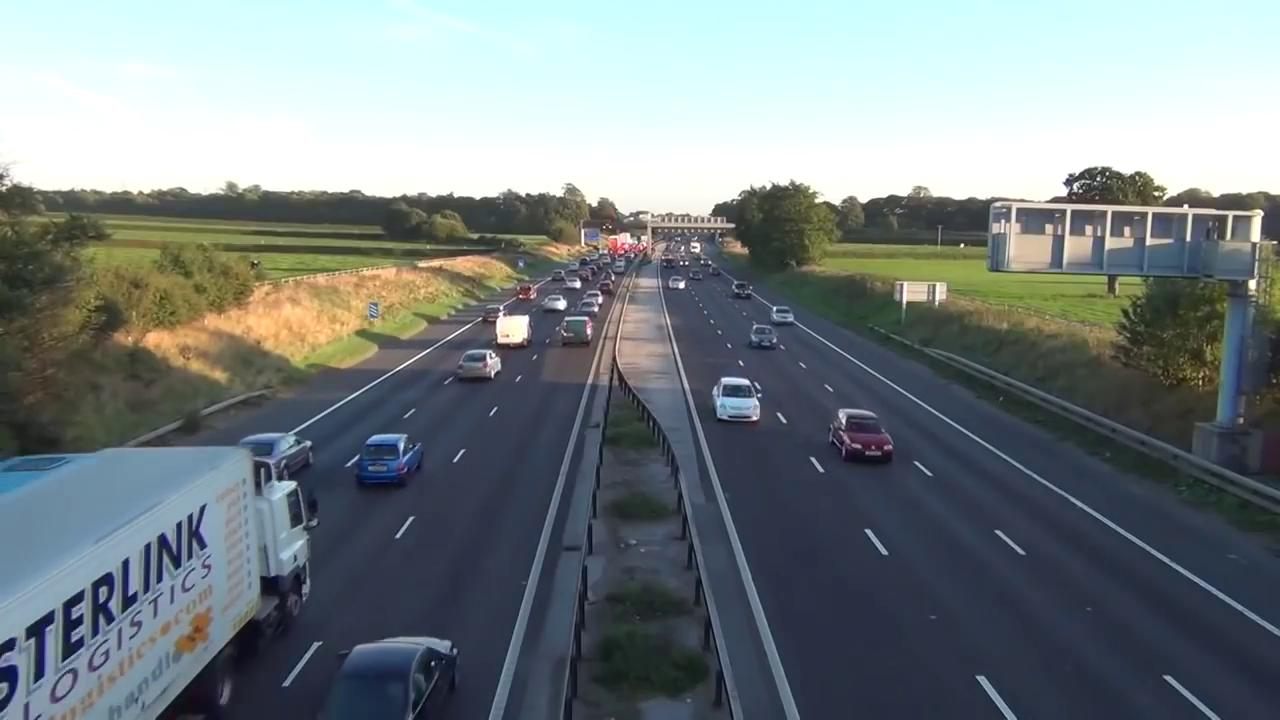bus: (711, 374, 765, 421)
car: (7, 447, 316, 717), (318, 636, 464, 720), (354, 435, 427, 480), (235, 432, 314, 473), (827, 410, 894, 451), (457, 348, 500, 379), (557, 318, 591, 346), (746, 326, 781, 351), (537, 297, 568, 313), (482, 305, 507, 324), (730, 281, 752, 301), (769, 306, 793, 321), (576, 299, 598, 315), (668, 276, 686, 290)
truck: (498, 312, 535, 350)
